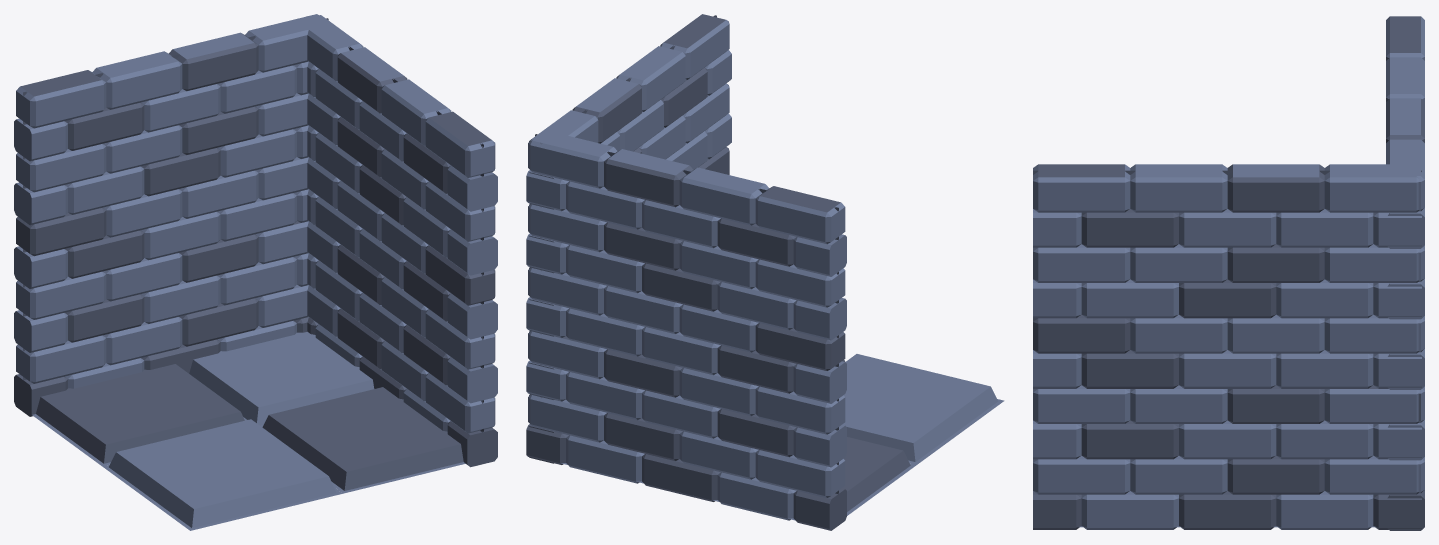
Rendered from corner.fbx.
3 views of the same model, side by side, from view 1: azimuth 30°, elevation 25°; view 2: azimuth 150°, elevation 25°; view 3: azimuth 270°, elevation 25° (orthographic). The views are drawn at different scales.
Parts seen in each view (by area): view 1: brick wall.011; view 2: brick wall.011; view 3: brick wall.011.
Part boxes in pixels (left/top/right/bottom): brick wall.011: left=14, top=14, right=497, bottom=530; brick wall.011: left=526, top=14, right=1004, bottom=530; brick wall.011: left=1033, top=16, right=1424, bottom=530.
Bounding box in the file's own units: 100 × 101 × 100.
